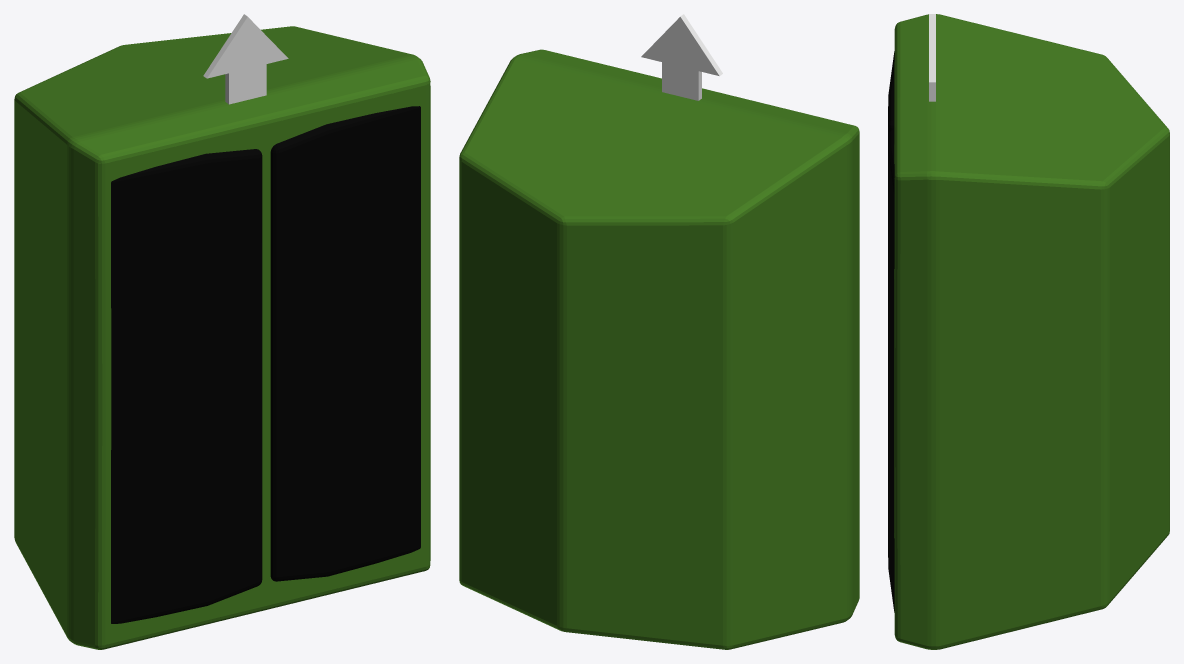
File: speaker.glb
3 views of the same model, side by side, from view 1: azimuth 30°, elevation 25°; view 2: azimuth 150°, elevation 25°; view 3: azimuth 270°, elevation 25° (orthographic). The views are drawn at different scales.
Visible parts, largest first — view 1: Speaker, Plane; view 2: Speaker, Plane; view 3: Speaker, Plane.
Part boxes in pixels (x1,y1,x2,y2): Speaker: [14, 26, 430, 649]; Plane: [203, 14, 288, 104]; Speaker: [459, 49, 859, 649]; Plane: [641, 14, 722, 100]; Speaker: [888, 14, 1169, 649]; Plane: [929, 14, 935, 101].
Bounding box in the file's own units: 0.4238 × 0.6777 × 0.3108.
